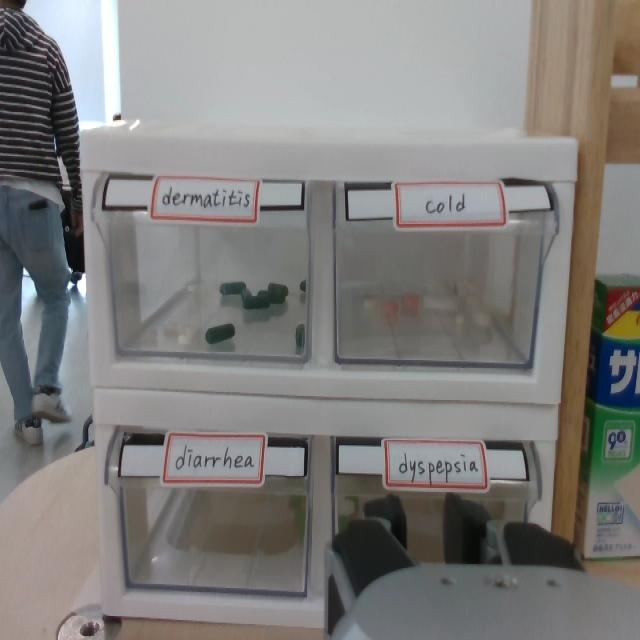text: (173, 440, 258, 475), (162, 182, 252, 215), (396, 447, 482, 479), (424, 191, 472, 218)
